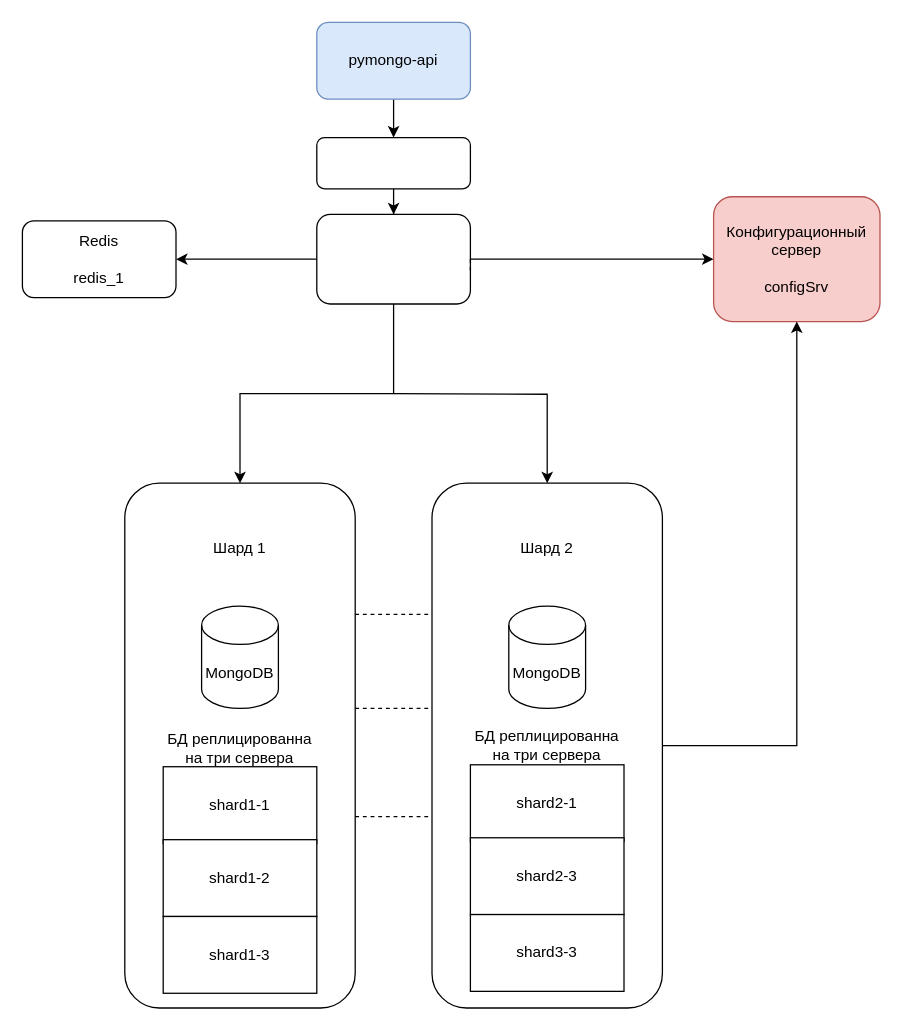
This 902x1030 diagram has some shape labels left out. The centre of each missing label's shape, as x and y in pixels:
Драйвер: (x=393, y=162)
Роутер mongos_router: (x=393, y=258)
